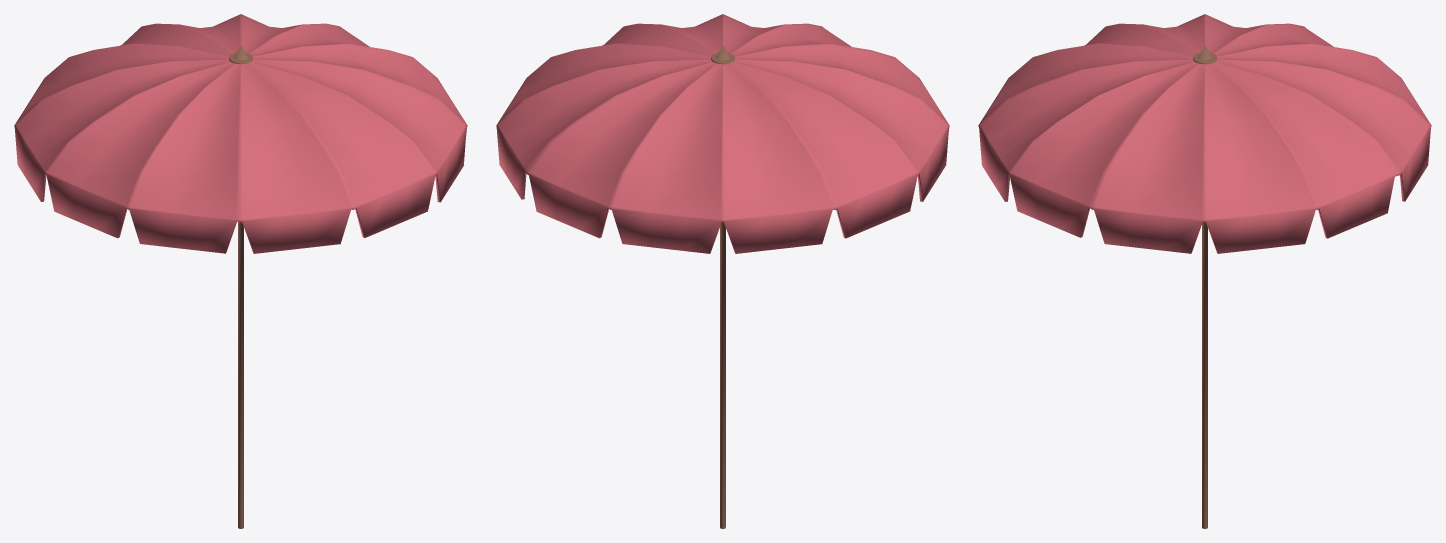
File: Umbrella.fbx
The picture shows the model from 3 angles, left to right: view 1: azimuth 30°, elevation 25°; view 2: azimuth 150°, elevation 25°; view 3: azimuth 270°, elevation 25°; orthographic projection.
Parts seen in each view (by area): view 1: Umbrella_LOD0; view 2: Umbrella_LOD0; view 3: Umbrella_LOD0.
Boxes of the visible parts, <box> form: Umbrella_LOD0: <box>14,14,467,528</box>; Umbrella_LOD0: <box>496,14,949,528</box>; Umbrella_LOD0: <box>978,14,1431,528</box>.
Size of what is drawn, in the model's own units: 221 by 259 by 221.
